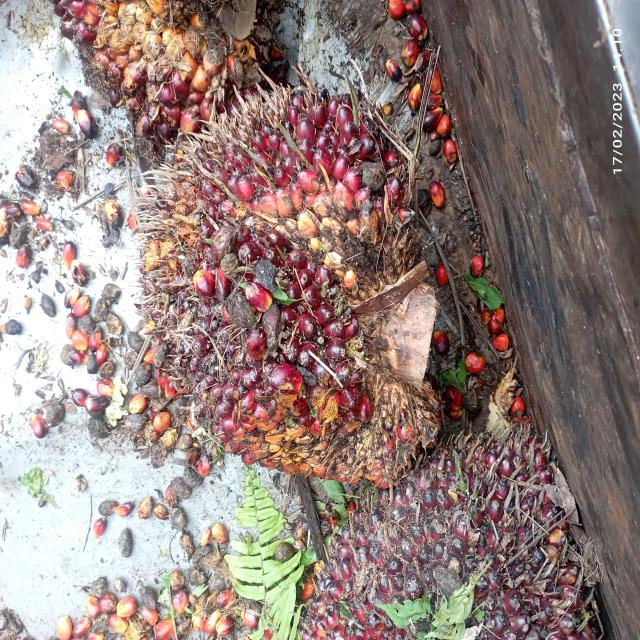fraksi 1: (100, 56, 468, 529), (294, 414, 610, 640)
